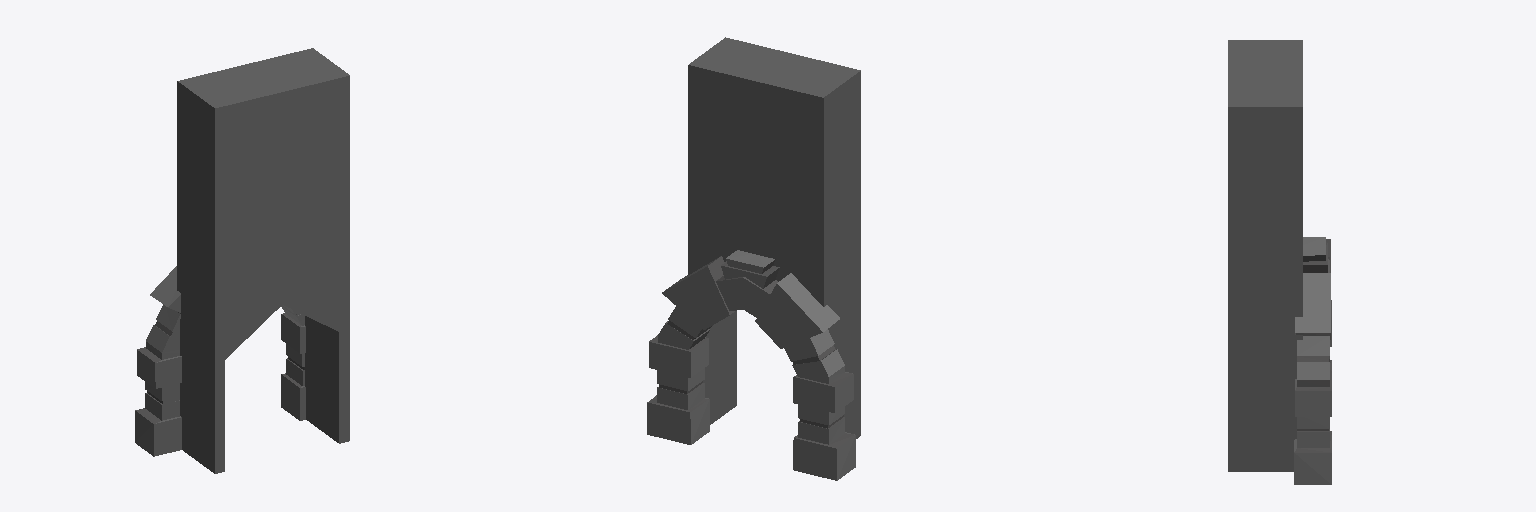
The picture shows the model from 3 angles: view 1: azimuth 30°, elevation 25°; view 2: azimuth 150°, elevation 25°; view 3: azimuth 270°, elevation 25°; orthographic projection.
Visible parts, largest first — view 1: DoorFrameTwoWall:DoorFrameWall1; view 2: DoorFrameTwoWall:DoorFrameWall1; view 3: DoorFrameTwoWall:DoorFrameWall1.
Boxes of the visible parts, <box> form: DoorFrameTwoWall:DoorFrameWall1: <box>135,48,349,473</box>; DoorFrameTwoWall:DoorFrameWall1: <box>647,37,860,480</box>; DoorFrameTwoWall:DoorFrameWall1: <box>1228,40,1331,484</box>.
Size of the model in its own units: 13.96 by 25.64 by 6.62.
Materials: 2 (1 with a texture image).